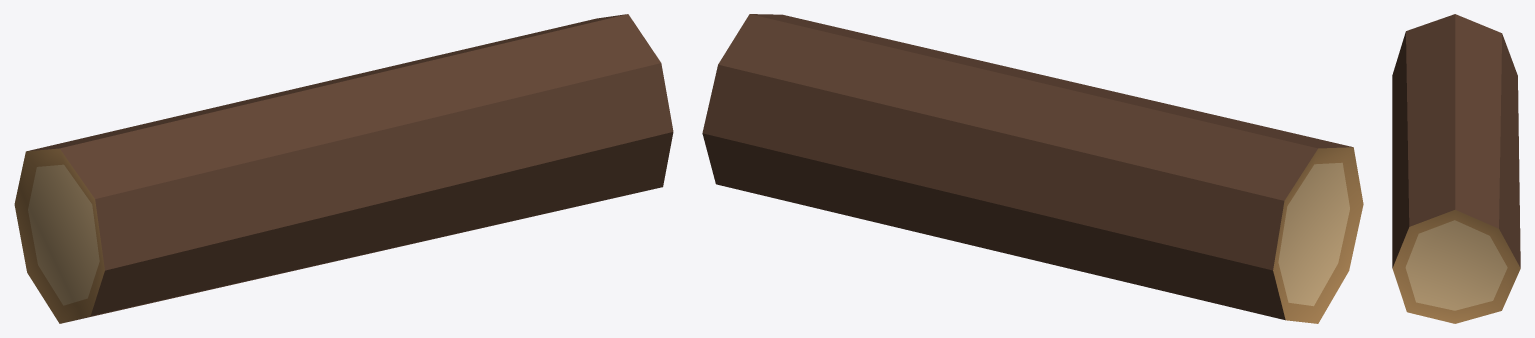
File: SM_Log_Small.glb
The picture shows the model from 3 angles, left to right: view 1: azimuth 30°, elevation 25°; view 2: azimuth 150°, elevation 25°; view 3: azimuth 270°, elevation 25°; orthographic projection. The views are drawn at different scales.
Parts seen in each view (by area): view 1: SM_Log_Small; view 2: SM_Log_Small; view 3: SM_Log_Small.
Boxes of the visible parts, <box> form: SM_Log_Small: <box>14,14,673,323</box>; SM_Log_Small: <box>702,14,1363,323</box>; SM_Log_Small: <box>1392,14,1520,323</box>.
Bounding box in the file's own units: 0.7 × 0.2065 × 0.1973.
1 material, 1 textured.
